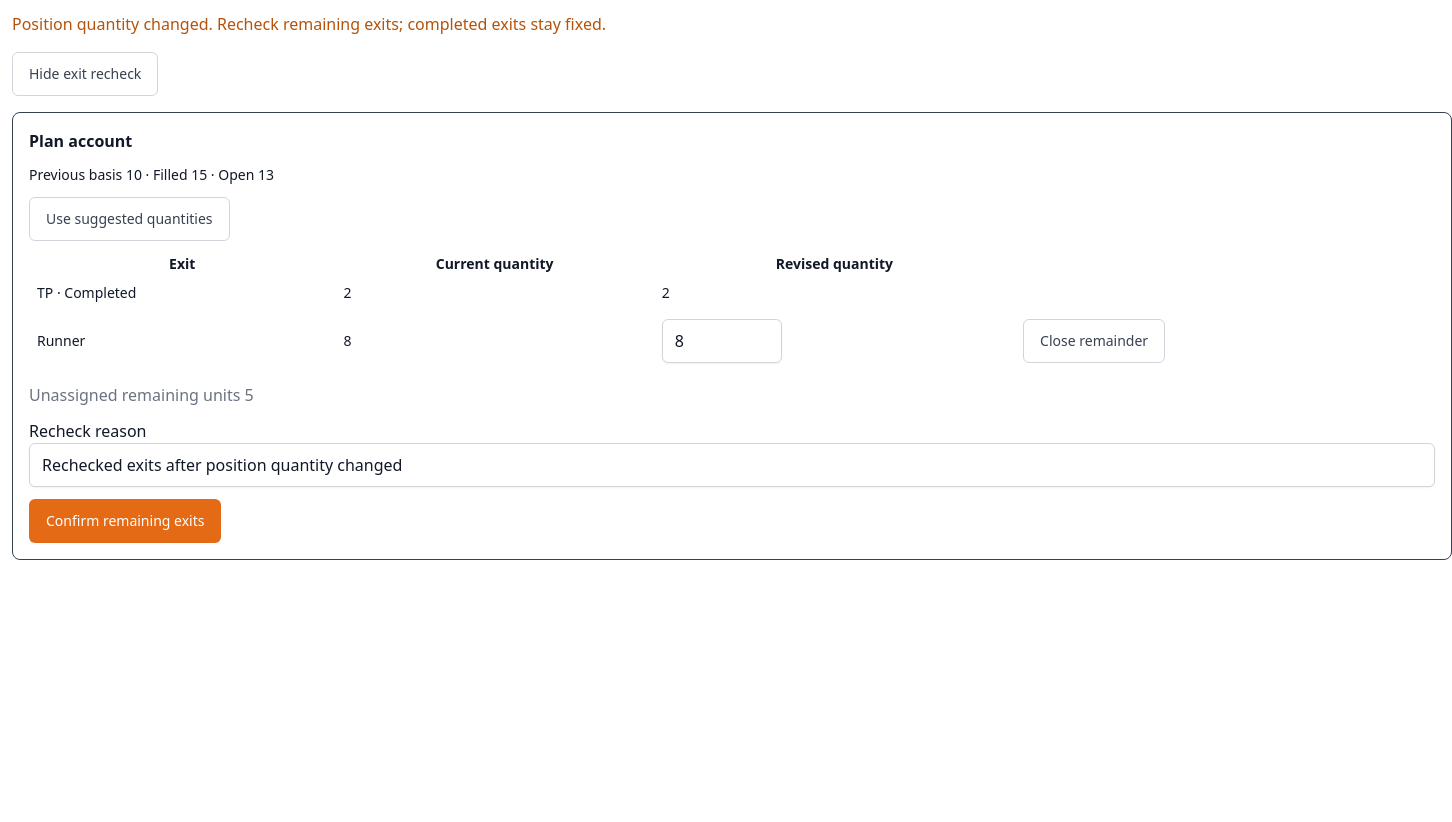
Scenario: rejects quantities above open units and preserves input after a source-version rejection
Replace the text in the number field named "Revised exit quantity Runner" with "14" at (722, 341), box x1=662 y1=319 x2=782 y2=363
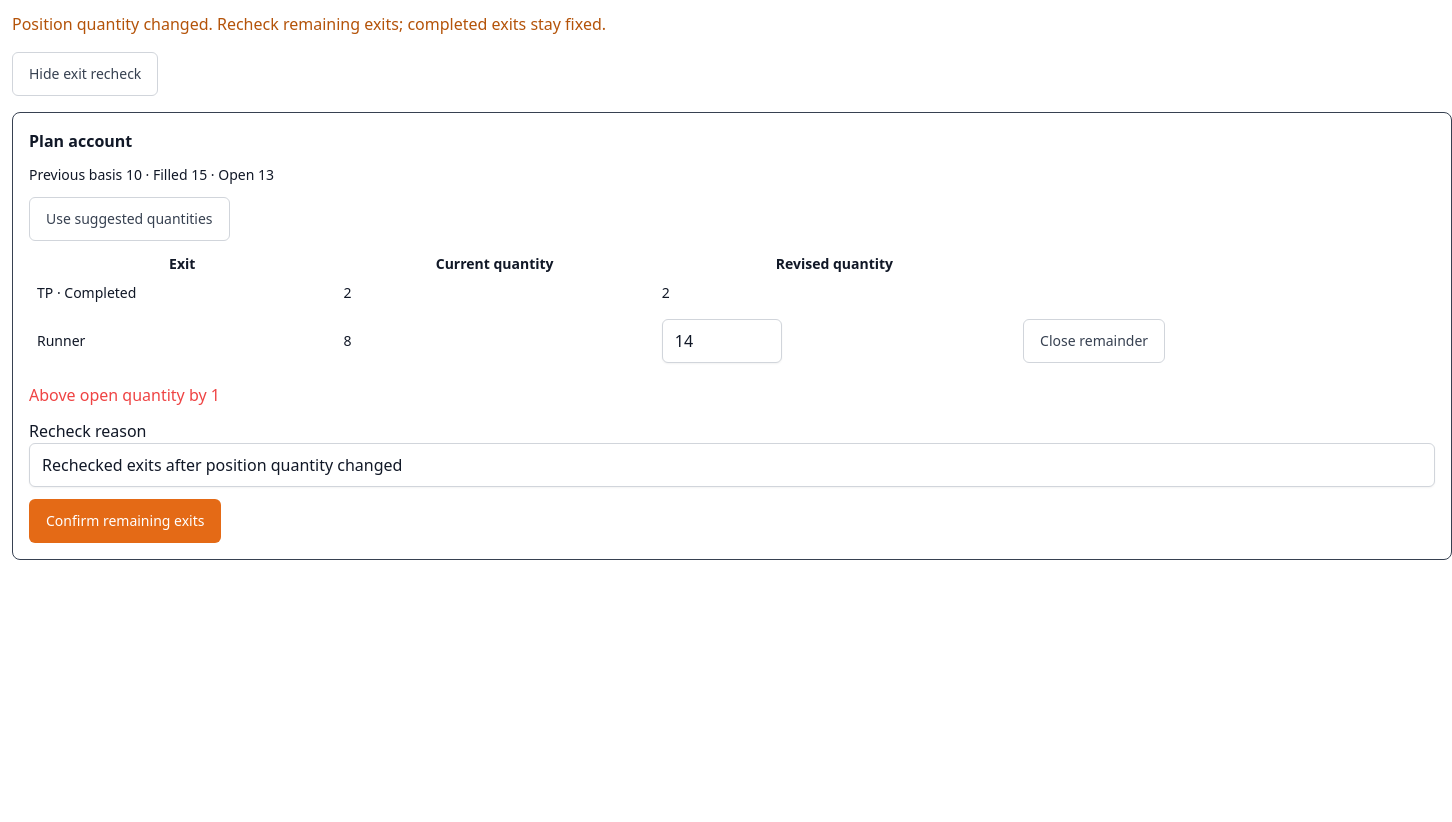
Expected: the button "Confirm remaining exits" is disabled, x1=29 y1=499 x2=221 y2=543
Replace the text in the number field named "Revised exit quantity Runner" with "12" at (722, 341), box x1=662 y1=319 x2=782 y2=363
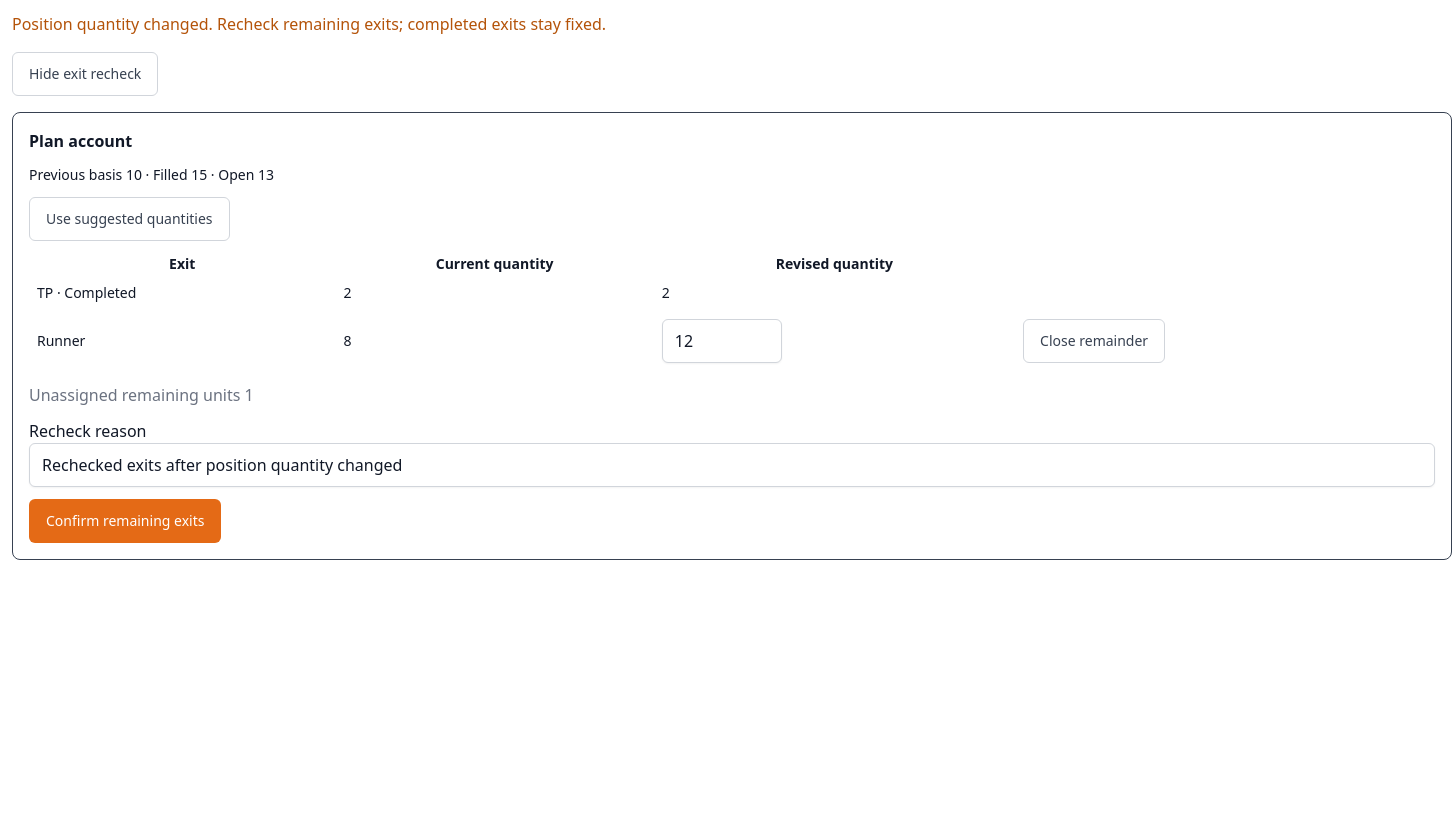
Click the button "Confirm remaining exits" at (125, 521), box x1=29 y1=499 x2=221 y2=543
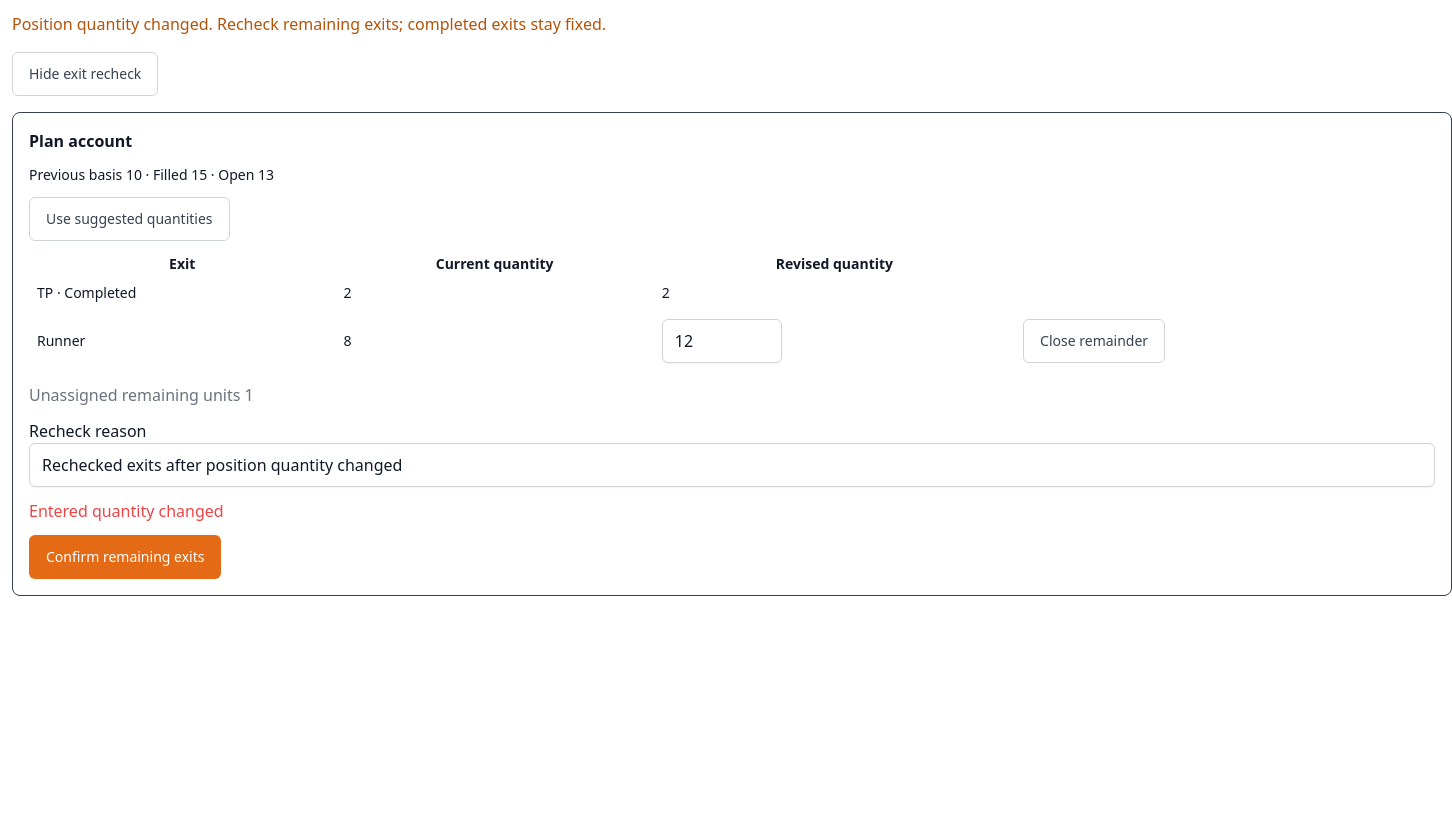
Now the message "Entered quantity changed" is shown, box x1=29 y1=500 x2=224 y2=522
